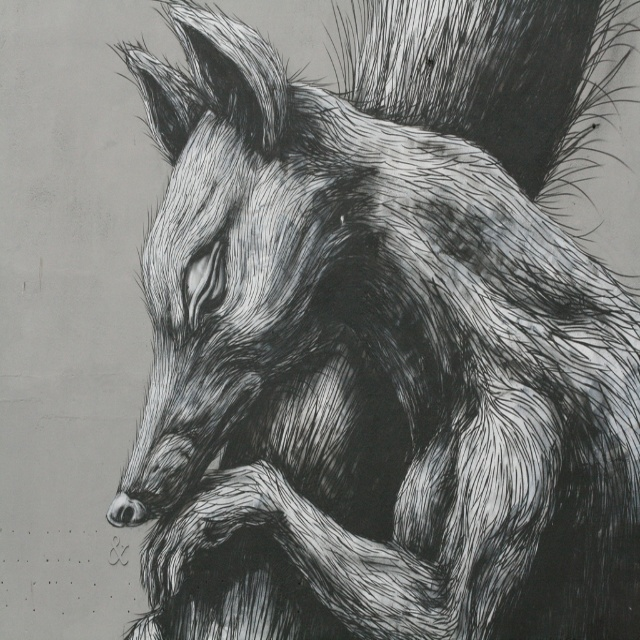Pig: (104, 0, 640, 639)
